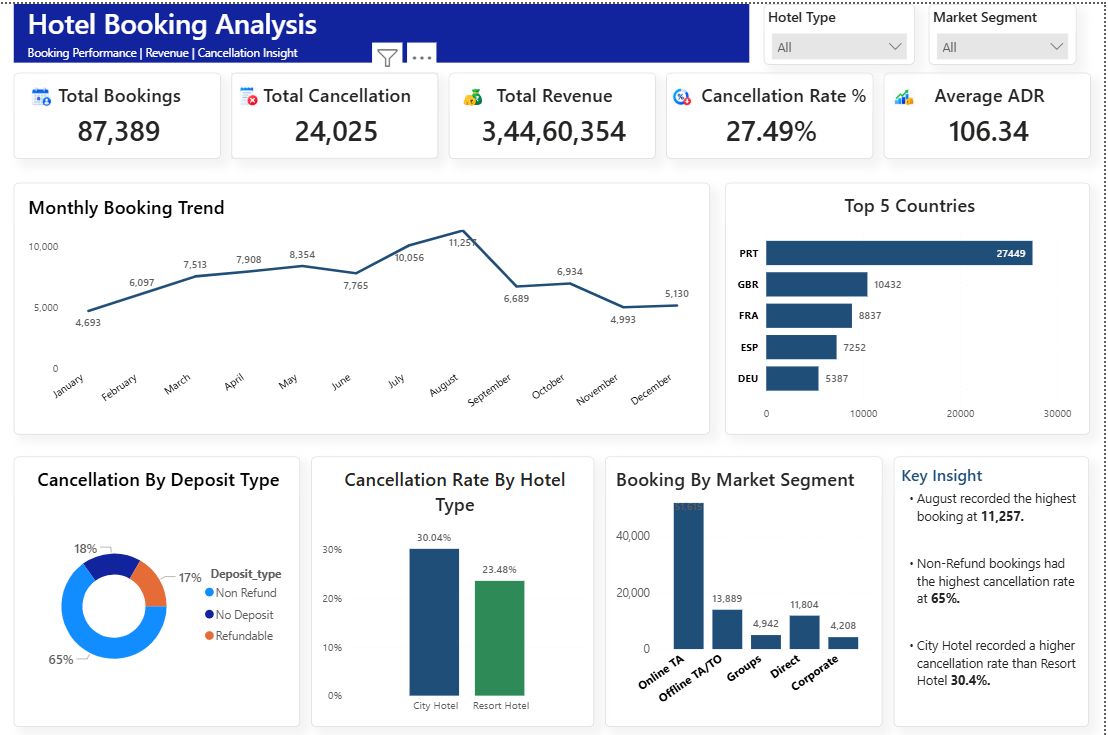

This screenshot's page, from the dashboard's own definition file:
{"tool":"powerbi","page":{"name":"Page 1","canvas":[1280,850],"ordinal":0},"visuals":[{"type":"textbox","title":"Hotel Booking Analysis","box":[15.9,0,853.2,67.9],"z":0},{"type":"card","title":"  Total Bookings","fields":{"Values":["booking.Total Booking"]},"box":[15.9,79.4,239.6,99.6],"z":1000},{"type":"card","title":"Total Cancellation","fields":{"Values":["booking.Total Cancellations"]},"box":[267.6,79.4,240,100],"z":2000},{"type":"card","title":"Total Revenue","fields":{"Values":["booking.Total Revenue"]},"box":[519.8,79.4,240,100],"z":3000},{"type":"card","title":"Cancellation Rate %","fields":{"Values":["booking.Cancellation Rate %"]},"box":[771.9,79.4,240,100],"z":4000},{"type":"donutChart","title":"Cancellation By Deposit Type","fields":{"Category":["booking.deposit_type"],"Y":["booking.Cancellation Rate %"]},"box":[15.9,524,332,313.3],"z":5000},{"type":"card","title":"Average ADR","fields":{"Values":["booking.average Adr"]},"box":[1024,79.4,240,100],"z":6000},{"type":"lineChart","title":"Monthly Booking Trend","fields":{"Category":["booking.arrival_date_month"],"Y":["booking.Total Booking"]},"box":[15.9,207.9,807,291.6],"z":7000},{"type":"columnChart","title":" Booking By Market Segment","fields":{"Category":["booking.market_segment"],"Y":["booking.Total Booking"]},"box":[701.6,524,321.9,313.3],"z":8000},{"type":"clusteredBarChart","title":"Top 5 Countries","fields":{"Category":["public top_10_countries.country"],"Y":["Sum(public top_10_countries.top_countries)"]},"box":[840.2,207.9,423,291.6],"z":9000},{"type":"clusteredColumnChart","title":"Cancellation Rate By Hotel Type","fields":{"Category":["booking.hotel"],"Y":["booking.Cancellation Rate %"]},"box":[360.9,524,327.7,313.3],"z":10000},{"type":"slicer","title":"Hotel Type","fields":{"Values":["booking.hotel"]},"box":[885.4,0,175.2,70],"z":11000},{"type":"slicer","title":"Market Segment","fields":{"Values":["booking.market_segment"]},"box":[1076.8,0,171,70],"z":12000},{"type":"image","box":[32,96,16,32],"z":13000},{"type":"image","box":[276,96,24,24],"z":14000},{"type":"image","box":[536,96,24,24],"z":15000},{"type":"image","box":[778,96,24,24],"z":16000},{"type":"image","box":[1036,96,24,24],"z":17000},{"type":"image","title":"to","box":[36,96,24,24],"z":18000},{"type":"textbox","title":"Key Insight","box":[1036.5,524,226.6,313.3],"z":19000}]}

Visuals, with their boxes in screenshot pixels (x1, y1, x2, y2), scaled from the page's 1280x850 canvas onto the 1108x735 screenshot:
"Hotel Booking Analysis" textbox: 14:0:752:59
"  Total Bookings" card: 14:69:221:155
"Total Cancellation" card: 232:69:439:155
"Total Revenue" card: 450:69:658:155
"Cancellation Rate %" card: 668:69:876:155
"Cancellation By Deposit Type" donutChart: 14:453:301:724
"Average ADR" card: 886:69:1094:155
"Monthly Booking Trend" lineChart: 14:180:712:432
" Booking By Market Segment" columnChart: 607:453:886:724
"Top 5 Countries" clusteredBarChart: 727:180:1093:432
"Cancellation Rate By Hotel Type" clusteredColumnChart: 312:453:596:724
"Hotel Type" slicer: 766:0:918:61
"Market Segment" slicer: 932:0:1080:61
image: 28:83:42:111
image: 239:83:260:104
image: 464:83:485:104
image: 673:83:694:104
image: 897:83:918:104
"to" image: 31:83:52:104
"Key Insight" textbox: 897:453:1093:724
